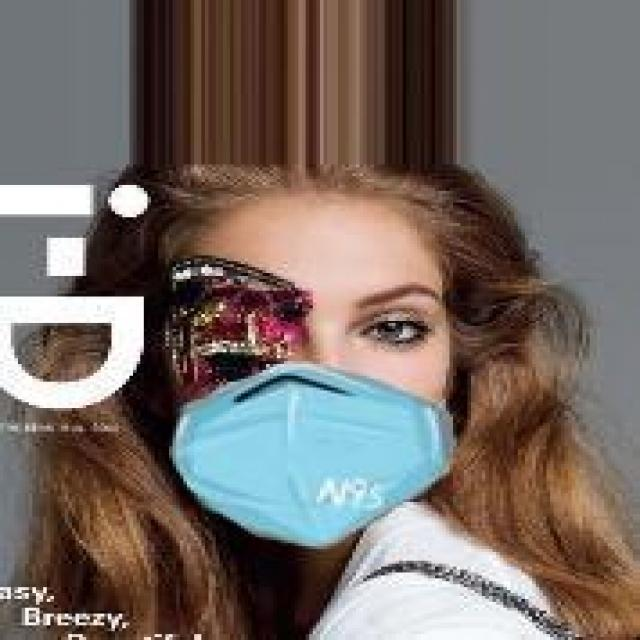mask: (144, 109, 543, 534)
